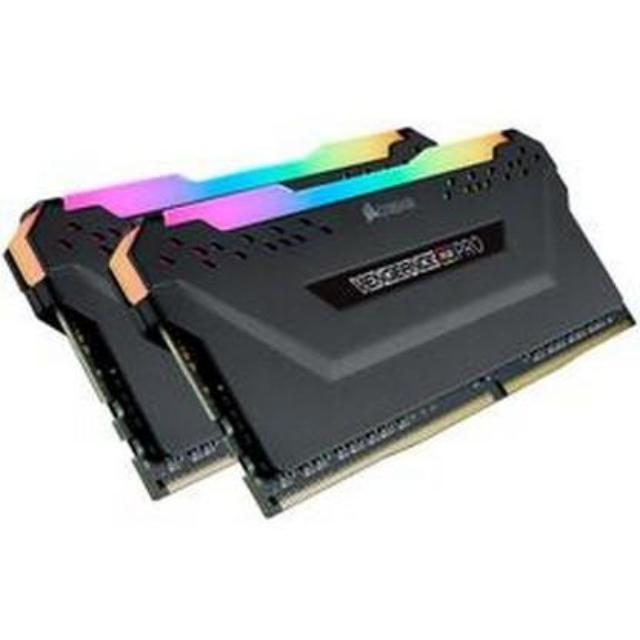RAM: (0, 110, 640, 532)
